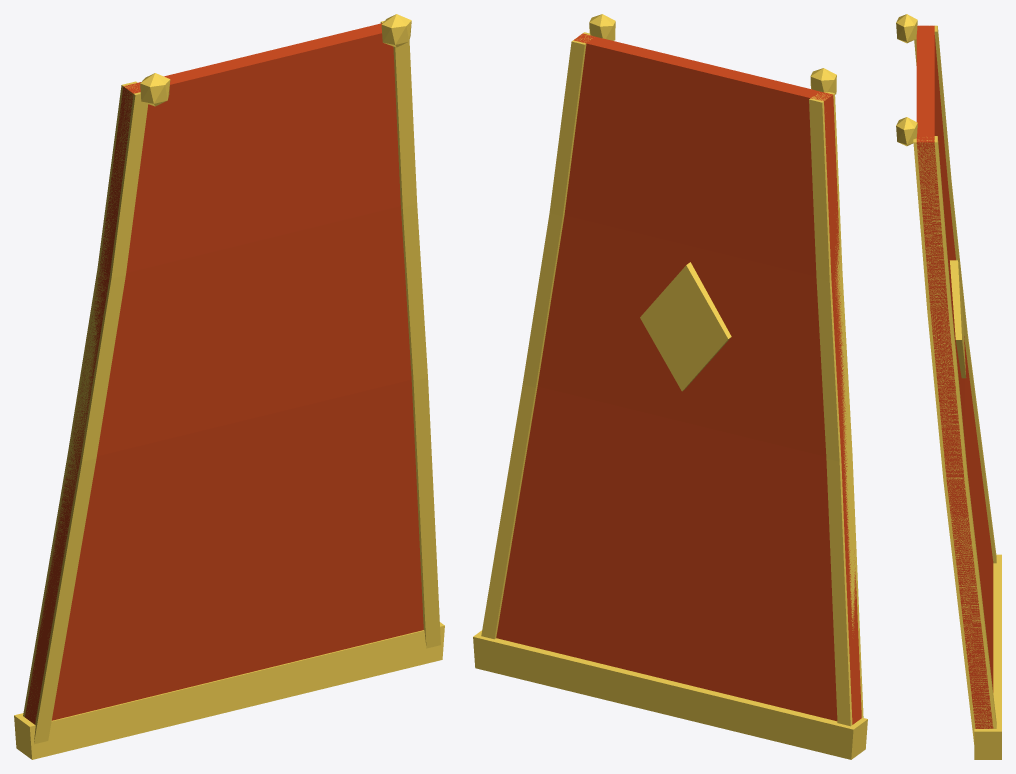
The model's file is gear_cape_firemaking.glb.
The picture shows the model from 3 angles, left to right: view 1: azimuth 30°, elevation 25°; view 2: azimuth 150°, elevation 25°; view 3: azimuth 270°, elevation 25°; orthographic projection. The views are drawn at different scales.
Visible parts, largest first — view 1: gear_cape_firemaking; view 2: gear_cape_firemaking; view 3: gear_cape_firemaking.
Part boxes in pixels (left/top/right/bottom): gear_cape_firemaking: left=14, top=14, right=444, bottom=759; gear_cape_firemaking: left=473, top=14, right=867, bottom=759; gear_cape_firemaking: left=896, top=14, right=1001, bottom=759.
Bounding box in the file's own units: 0.516 × 0.825 × 0.1304.
